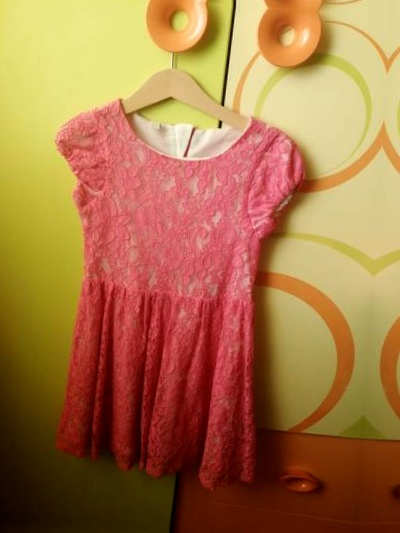Dress: (35, 68, 343, 495)
